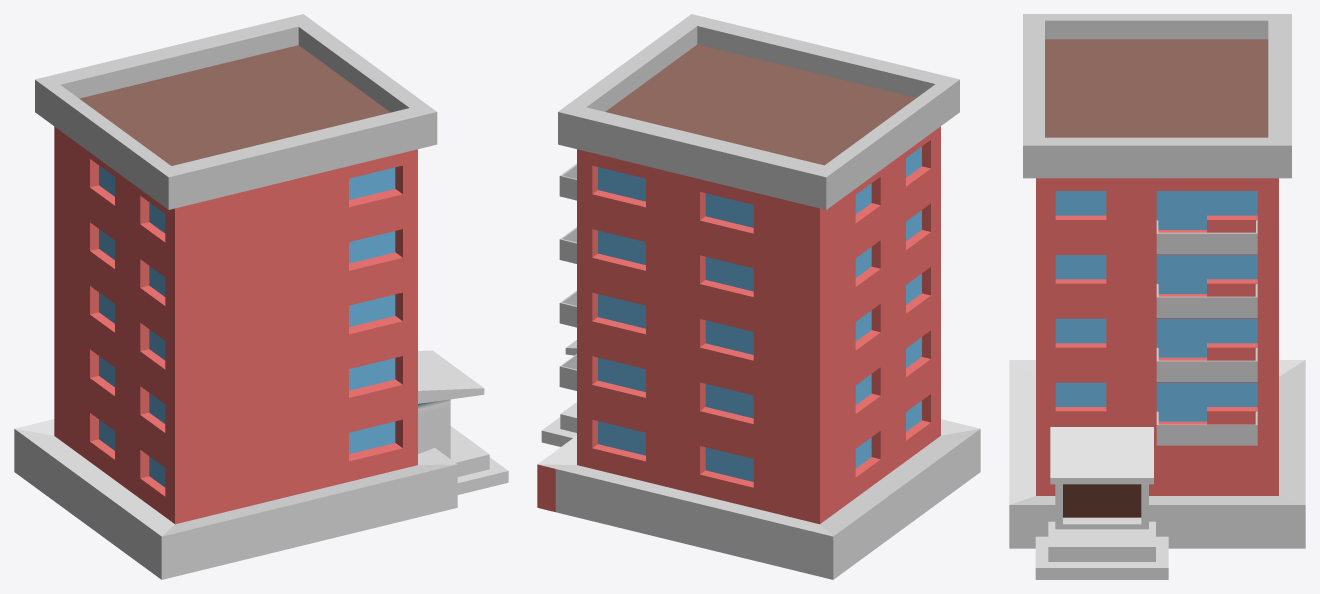
The model's file is House_4.fbx.
The picture shows the model from 3 angles, left to right: view 1: azimuth 30°, elevation 25°; view 2: azimuth 150°, elevation 25°; view 3: azimuth 270°, elevation 25°; orthographic projection.
Parts seen in each view (by area): view 1: House_2; view 2: House_2; view 3: House_2.
Part boxes in pixels (left/top/right/bottom): House_2: left=14, top=14, right=508, bottom=579; House_2: left=537, top=14, right=980, bottom=579; House_2: left=1009, top=14, right=1305, bottom=579.
Size of the model in its own units: 4803 by 5029 by 3407.
1 material, 1 textured.
